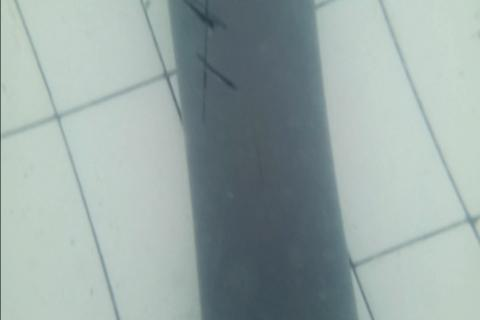keretakan: (184, 0, 239, 126)
